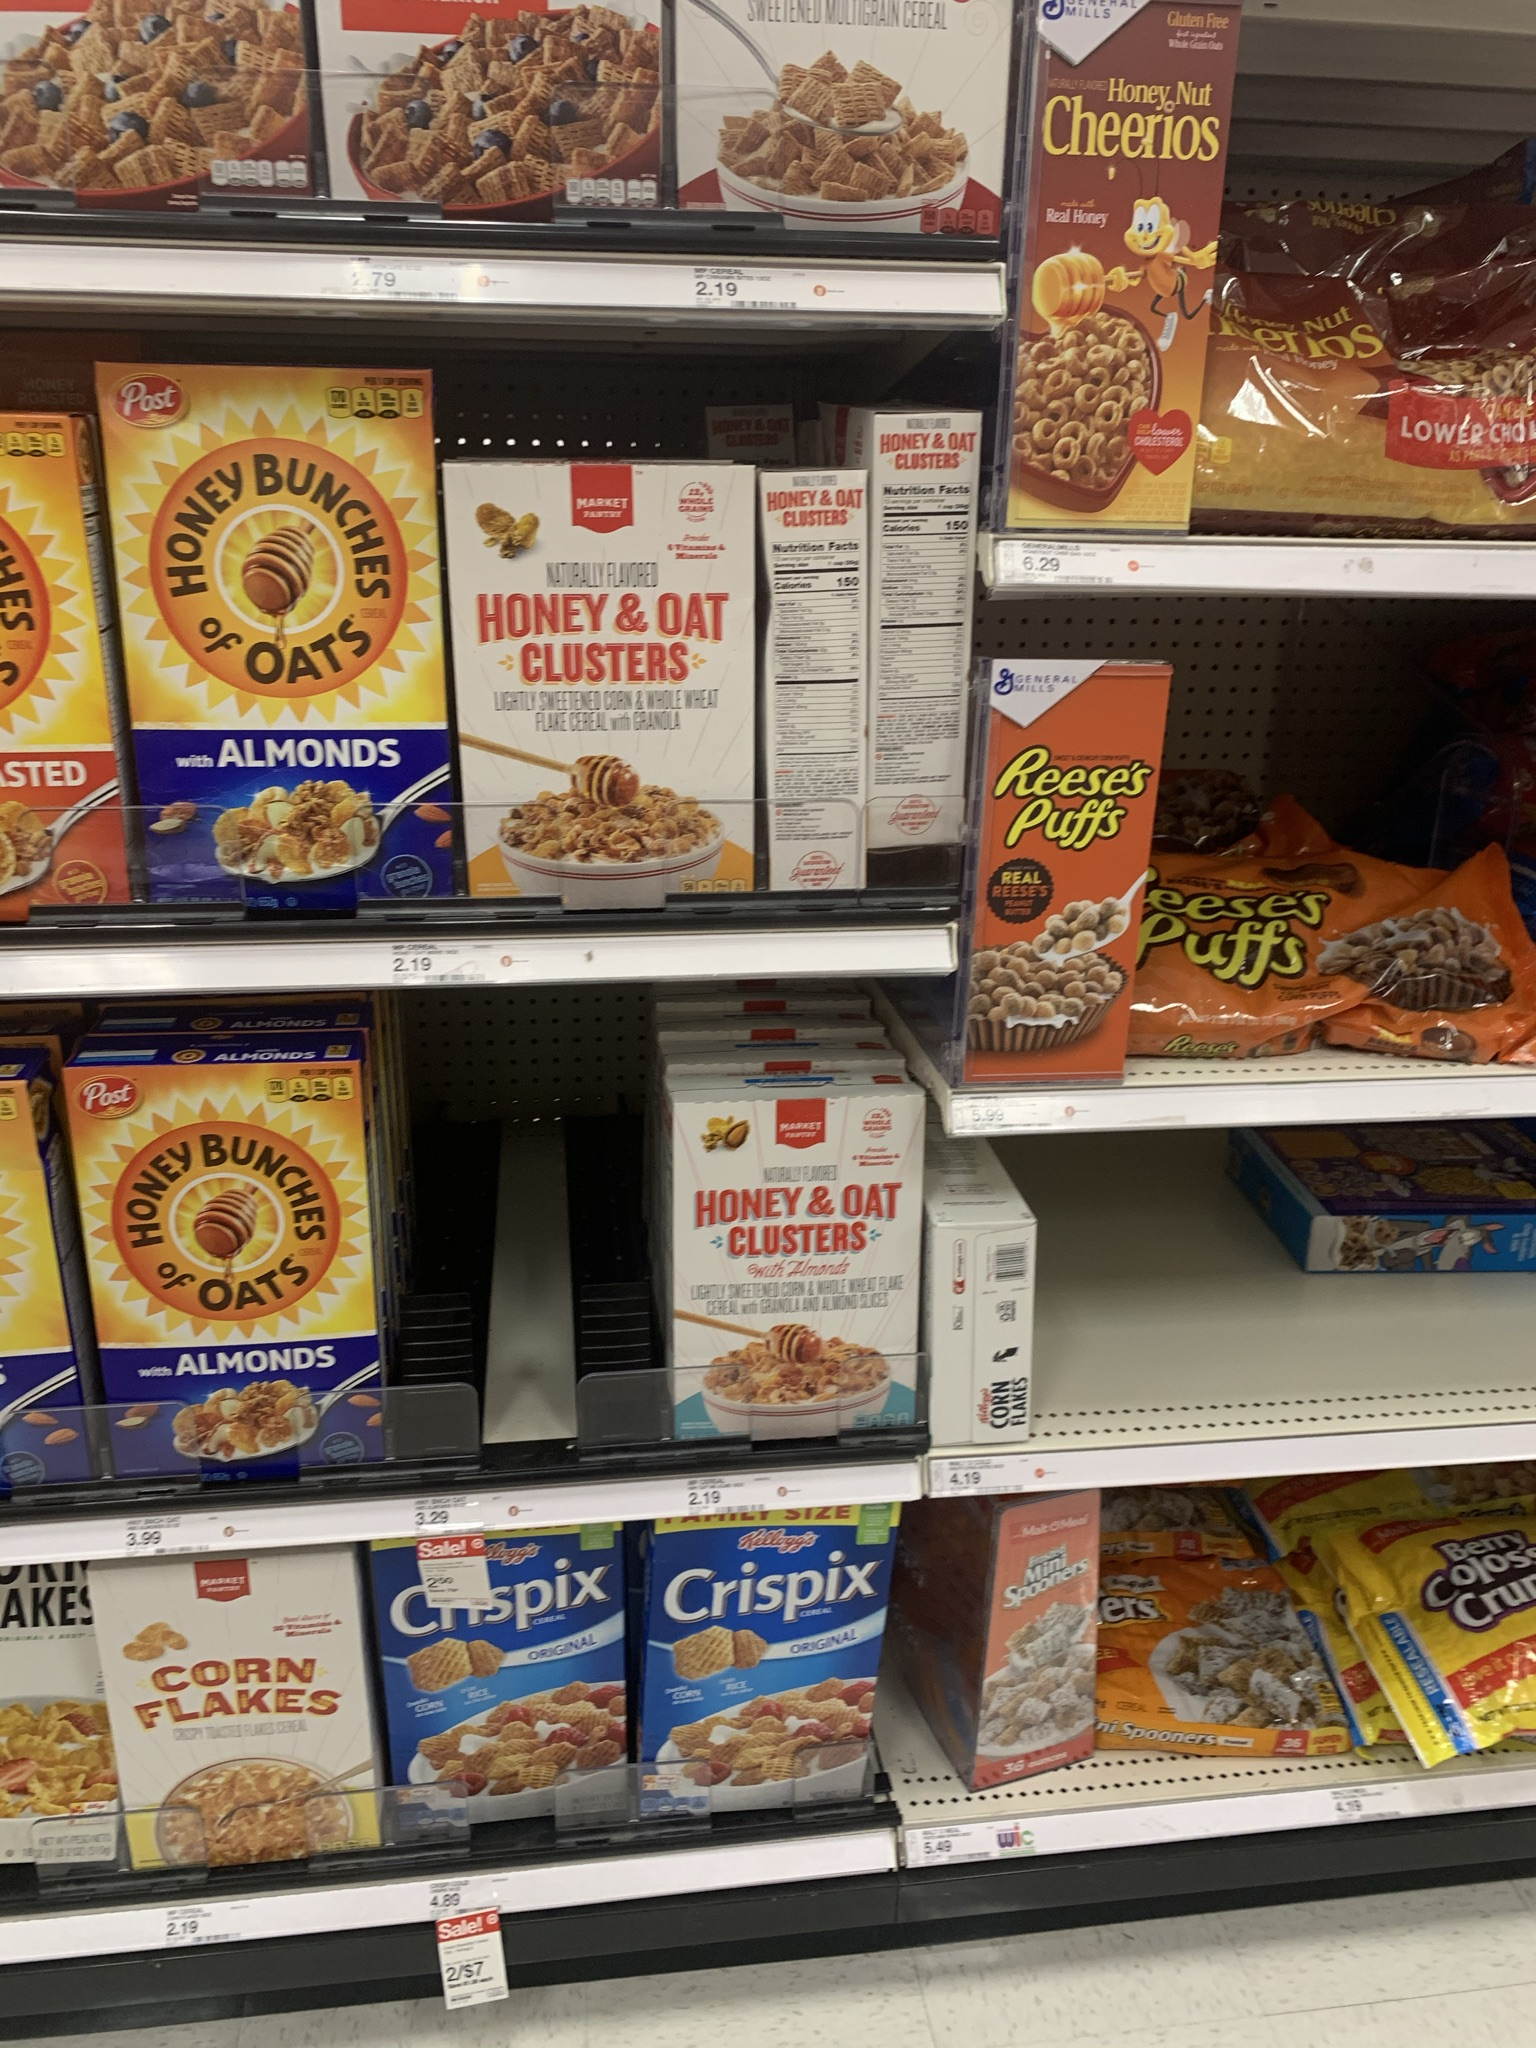Cereal corn flakes: (102, 1566, 382, 1866)
Cereal crispix: (399, 1569, 632, 1825), (666, 1524, 866, 1809)
Cereal honey oats: (118, 376, 466, 884), (479, 481, 758, 911), (56, 1071, 392, 1416), (1047, 6, 1221, 521), (678, 1109, 916, 1480), (879, 431, 971, 848), (783, 481, 874, 897)
